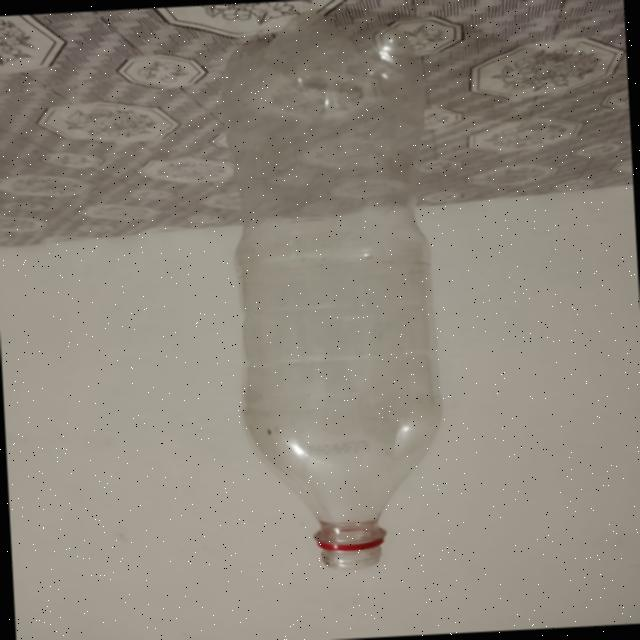bottle: (222, 10, 456, 578)
